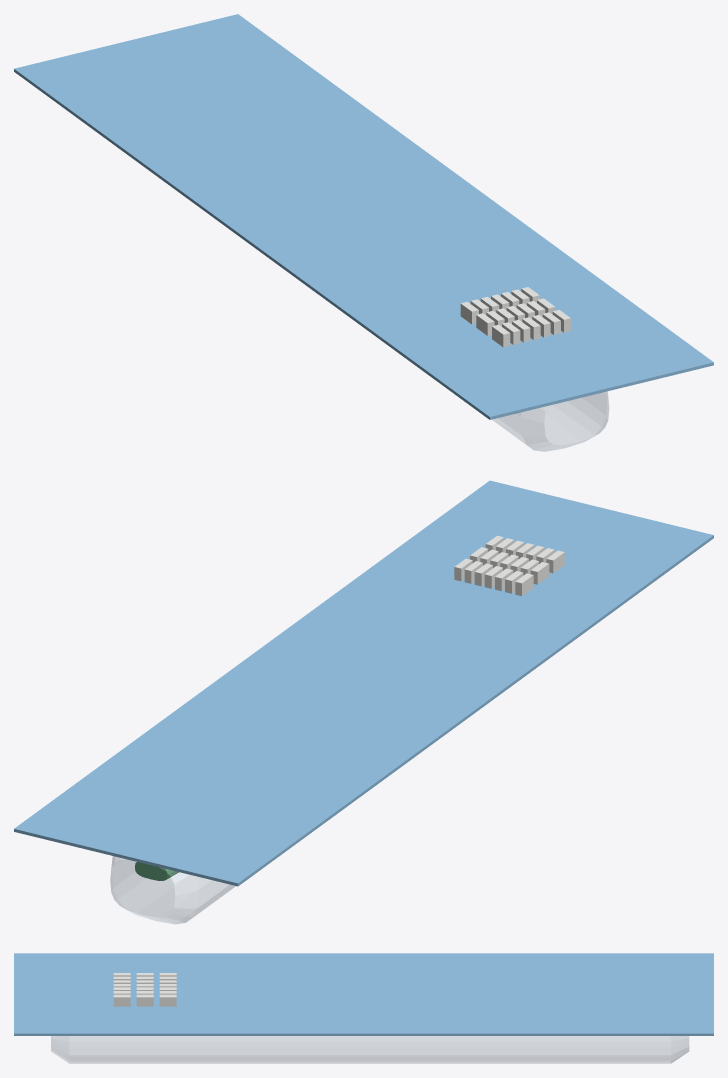
File: escova_dental_embalagem.obj
3 views of the same model, one above another, from view 1: azimuth 30°, elevation 25°; view 2: azimuth 150°, elevation 25°; view 3: azimuth 270°, elevation 25° (orthographic). The views are drawn at different scales.
Parts seen in each view (by area): view 1: escova_dental_embalagem_cartela, escova_dental_embalagem_cerdas, escova_dental_embalagem_bolha; view 2: escova_dental_embalagem_cartela, escova_dental_embalagem_bolha, escova_dental_embalagem_cerdas; view 3: escova_dental_embalagem_cartela, escova_dental_embalagem_bolha, escova_dental_embalagem_cerdas.
Boxes of the visible parts, box(x1,y1,x2,y2) form: escova_dental_embalagem_cartela: box(14, 14, 713, 419); escova_dental_embalagem_cerdas: box(460, 287, 570, 347); escova_dental_embalagem_bolha: box(492, 391, 609, 451); escova_dental_embalagem_cartela: box(14, 480, 713, 886); escova_dental_embalagem_bolha: box(110, 856, 235, 924); escova_dental_embalagem_cerdas: box(454, 535, 564, 596); escova_dental_embalagem_cartela: box(14, 953, 713, 1035); escova_dental_embalagem_bolha: box(51, 1036, 689, 1063); escova_dental_embalagem_cerdas: box(113, 973, 176, 1006).
Bounding box in the file's own units: 62 × 26.2 × 228.
